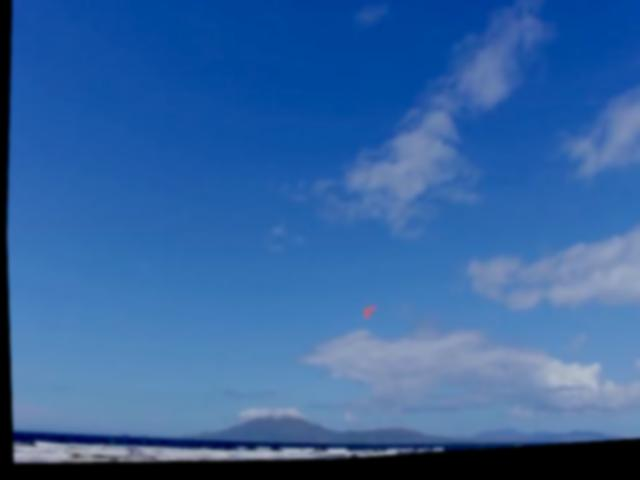flying wing: (360, 308, 373, 326)
